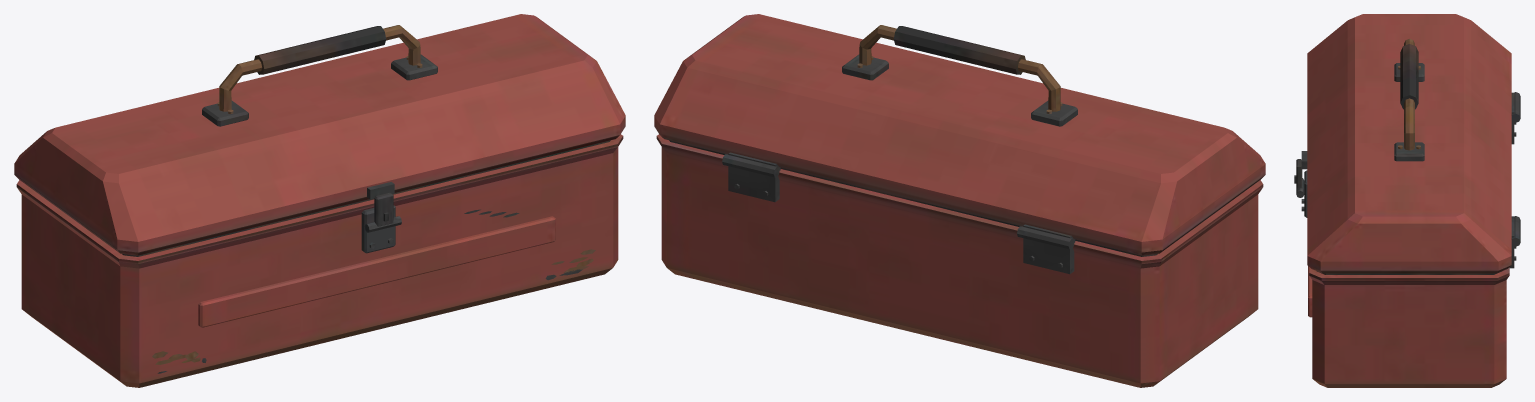
Rendered from D24_metal_toolbox_v1.glb.
The picture shows the model from 3 angles, left to right: view 1: azimuth 30°, elevation 25°; view 2: azimuth 150°, elevation 25°; view 3: azimuth 270°, elevation 25°; orthographic projection. The views are drawn at different scales.
Visible parts, largest first — view 1: Metal Toolbox; view 2: Metal Toolbox; view 3: Metal Toolbox.
Part boxes in pixels (x1,y1,x2,y2): Metal Toolbox: (14,14,625,387); Metal Toolbox: (654,14,1265,387); Metal Toolbox: (1294,14,1520,387).
Bounding box in the file's own units: 0.5 × 0.237 × 0.224.
Materials: 4 (4 with a texture image).
